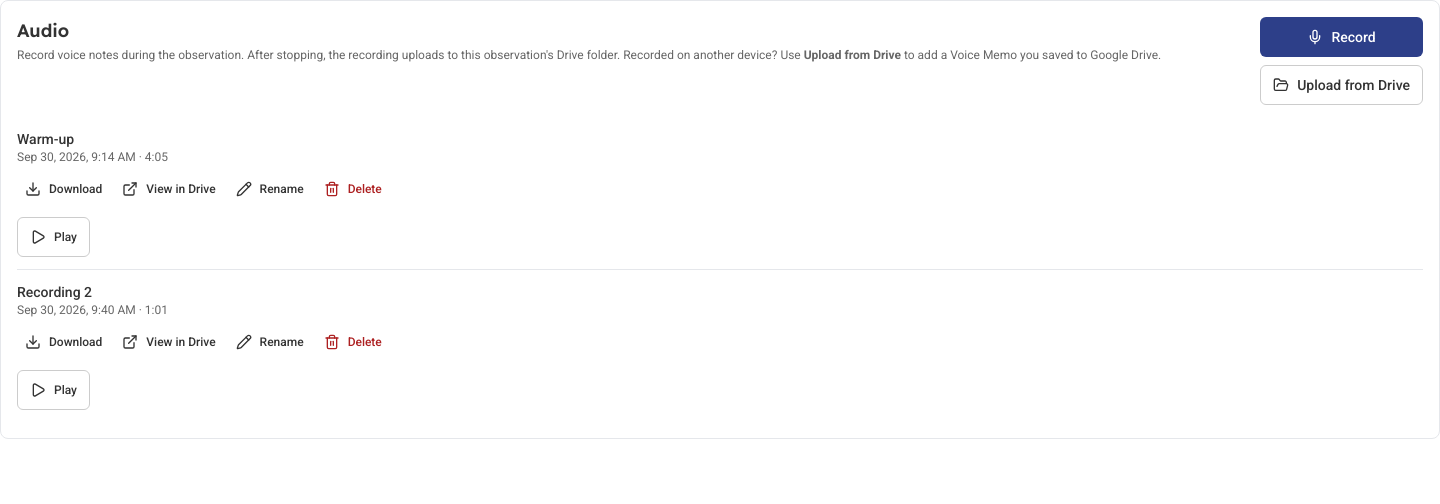
Scenario: <AudioRecorder> upload from Drive › skips files that are too large or not audio, and says which
The width and height of the screenshot is (1440, 504).
Click the button "Upload from Drive": x=1342, y=85 [1260,65,1423,105]
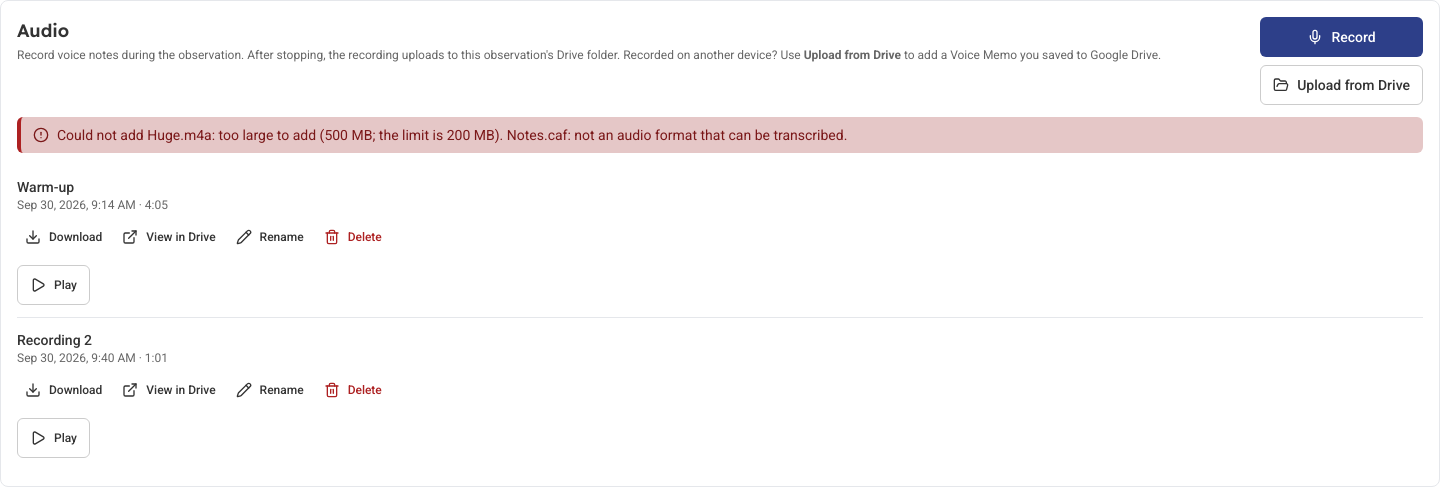
Result: the text "Notes.caf: not an audio format" is shown at [57,127,847,143]
